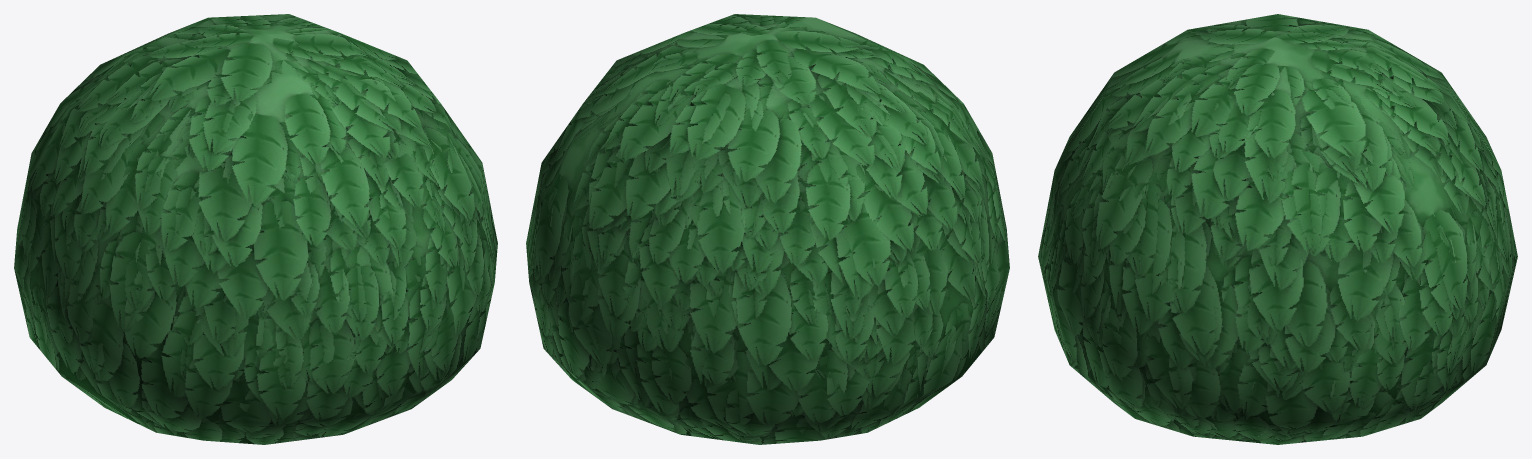
File: bushnormal.glb
The picture shows the model from 3 angles, left to right: view 1: azimuth 30°, elevation 25°; view 2: azimuth 150°, elevation 25°; view 3: azimuth 270°, elevation 25°; orthographic projection.
Visible parts, largest first — view 1: bushnormal; view 2: bushnormal; view 3: bushnormal.
Boxes of the visible parts, <box> form: bushnormal: <box>14,14,497,444</box>; bushnormal: <box>526,14,1009,444</box>; bushnormal: <box>1038,14,1517,444</box>.
Size of the model in its own units: 0.5876 by 0.4605 by 0.5876.
Materials: 1 (1 with a texture image).
